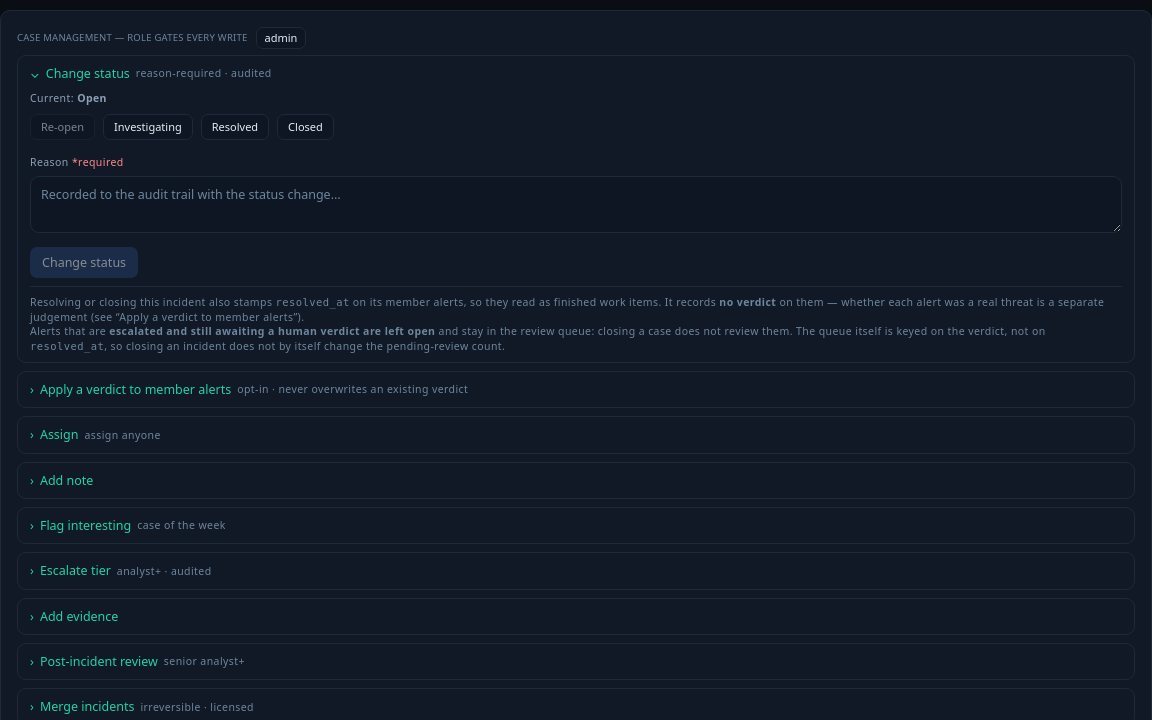
WO-H85 verdict propagation control › states the alert count it would touch and what it will refuse
Click the text "Apply a verdict to member alerts". click: (136, 390)
box: [40, 380, 231, 399]
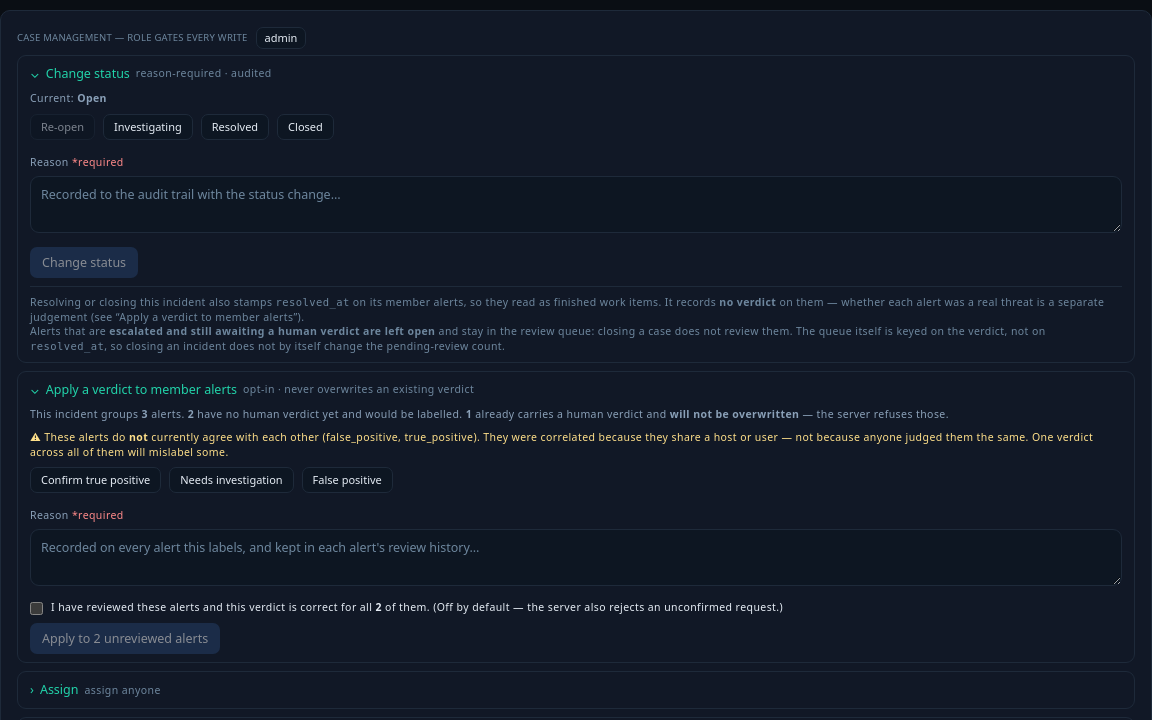
Now the text "This incident groups" is shown, box [30, 407, 142, 421]
Now the text "will not be overwritten" is shown, box [670, 407, 799, 421]
Now the button "Apply to 2 unreviewed alerts" is shown, box [30, 623, 220, 654]
